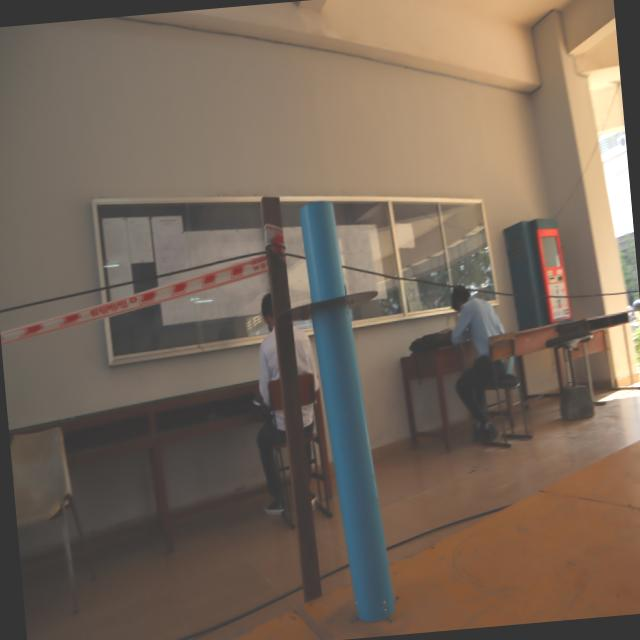pole: (266, 183, 406, 424)
